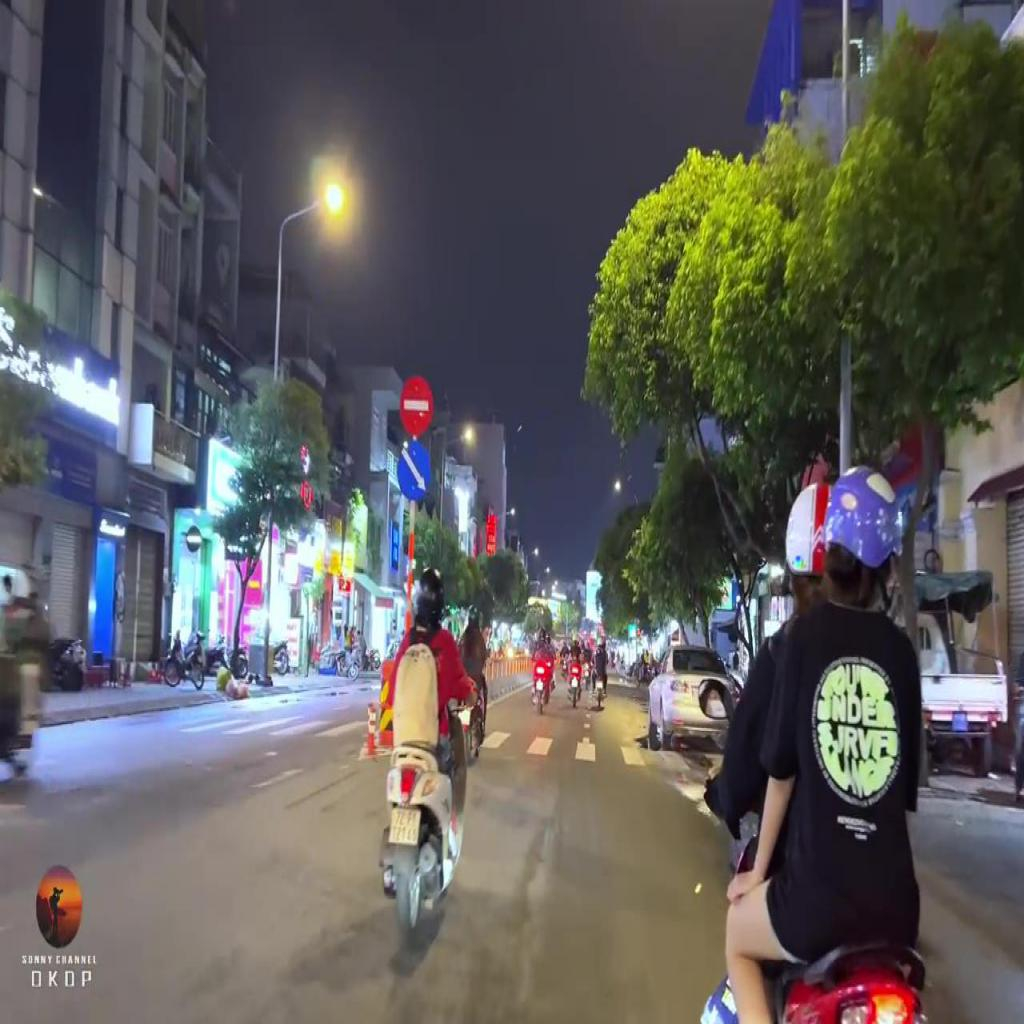cam_xe_di_nguoc_chieu: (398, 376, 434, 435)
huong_phai_di_vuot_chuong_ngai_vat_phai: (395, 440, 433, 500)
